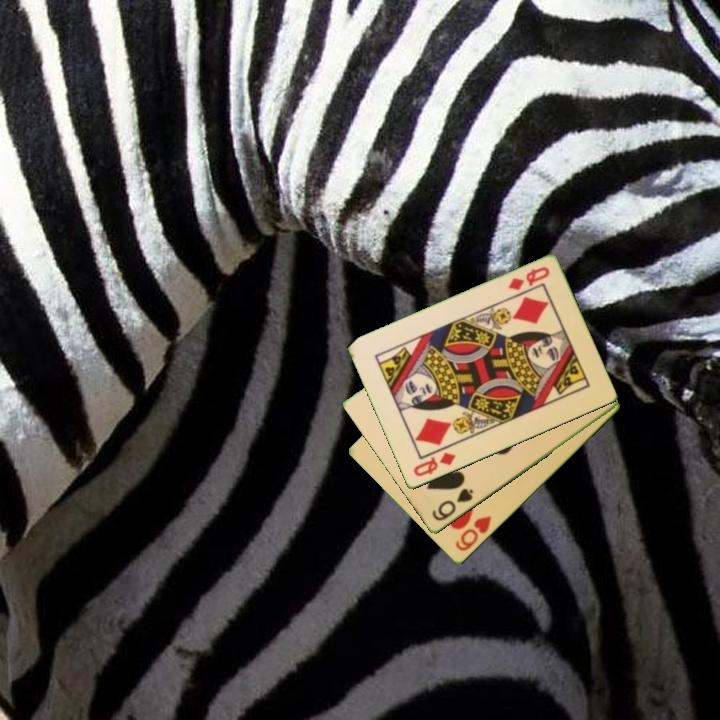6h: (452, 513, 494, 555)
6s: (428, 485, 476, 524)
Qd: (410, 449, 459, 480), (504, 263, 553, 294)
